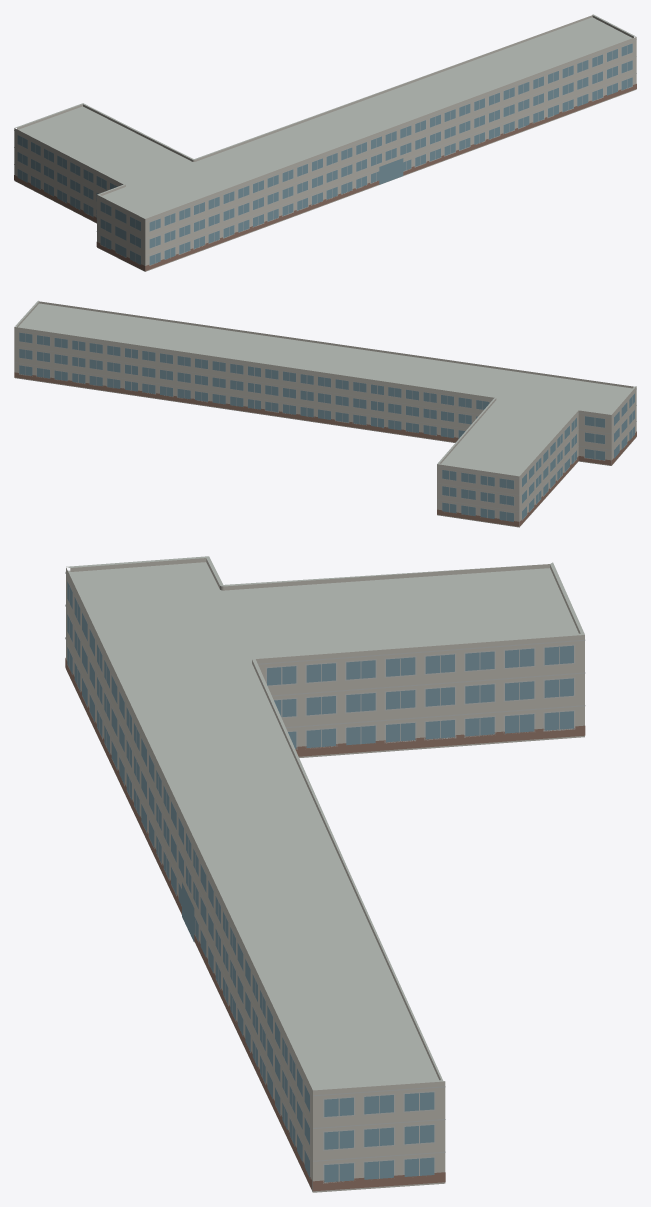
File: public-d0385b7d-832c-4b11-b5b7-e7a1a3dacbd8.glb
3 views of the same model, one above another, from view 1: azimuth 30°, elevation 25°; view 2: azimuth 150°, elevation 25°; view 3: azimuth 270°, elevation 25° (orthographic). The views are drawn at different scales.
Visible parts, largest first — view 1: public-d0385b7d-832c-4b11-b5b7-e7a1a3dacbd8; view 2: public-d0385b7d-832c-4b11-b5b7-e7a1a3dacbd8; view 3: public-d0385b7d-832c-4b11-b5b7-e7a1a3dacbd8.
Boxes of the visible parts, x1,y1,x2,y2 form: public-d0385b7d-832c-4b11-b5b7-e7a1a3dacbd8: (14, 14, 636, 271); public-d0385b7d-832c-4b11-b5b7-e7a1a3dacbd8: (14, 300, 636, 527); public-d0385b7d-832c-4b11-b5b7-e7a1a3dacbd8: (65, 556, 585, 1192).
Bounding box in the file's own units: 103 × 9.15 × 42.23.
